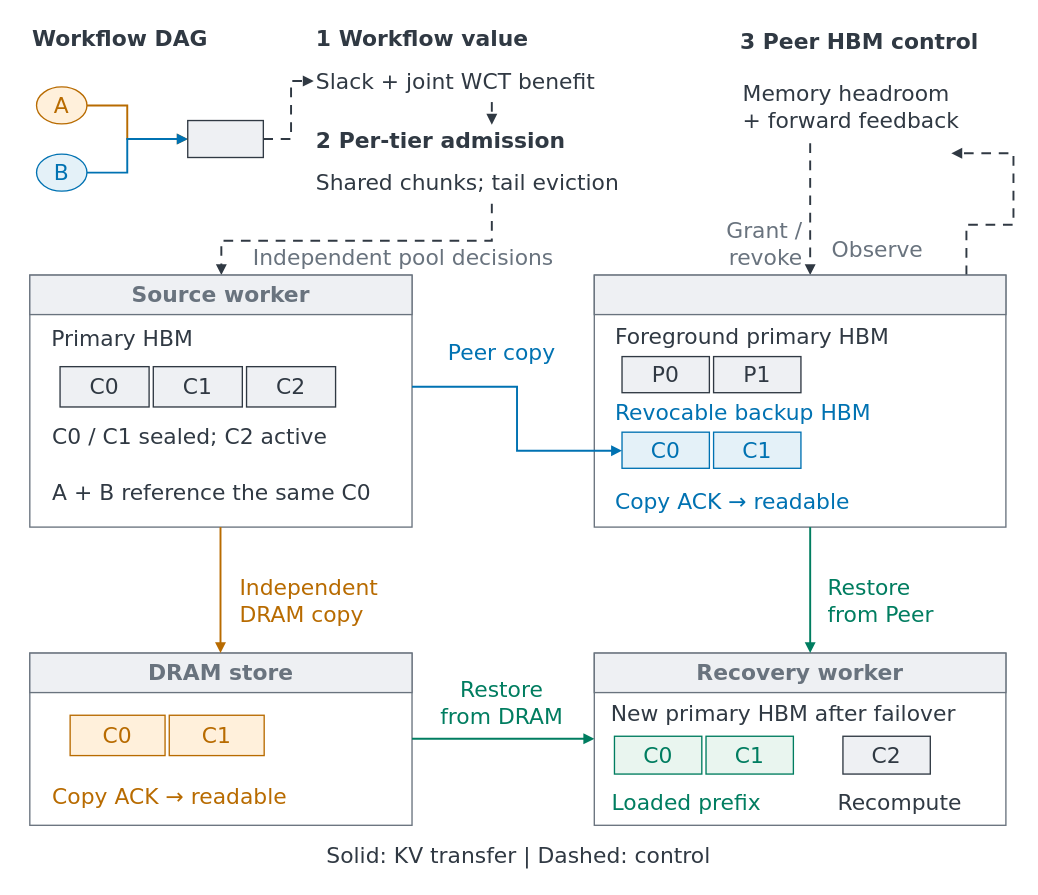
The diagram is 1038 pixels wide and 895 high, and some of its shapes have lost their labels. The box of each missing label's shape, as (x1, y1, x2, y2) in pixels:
Join: (187, 119, 264, 158)
Peer worker: (593, 274, 1006, 315)
